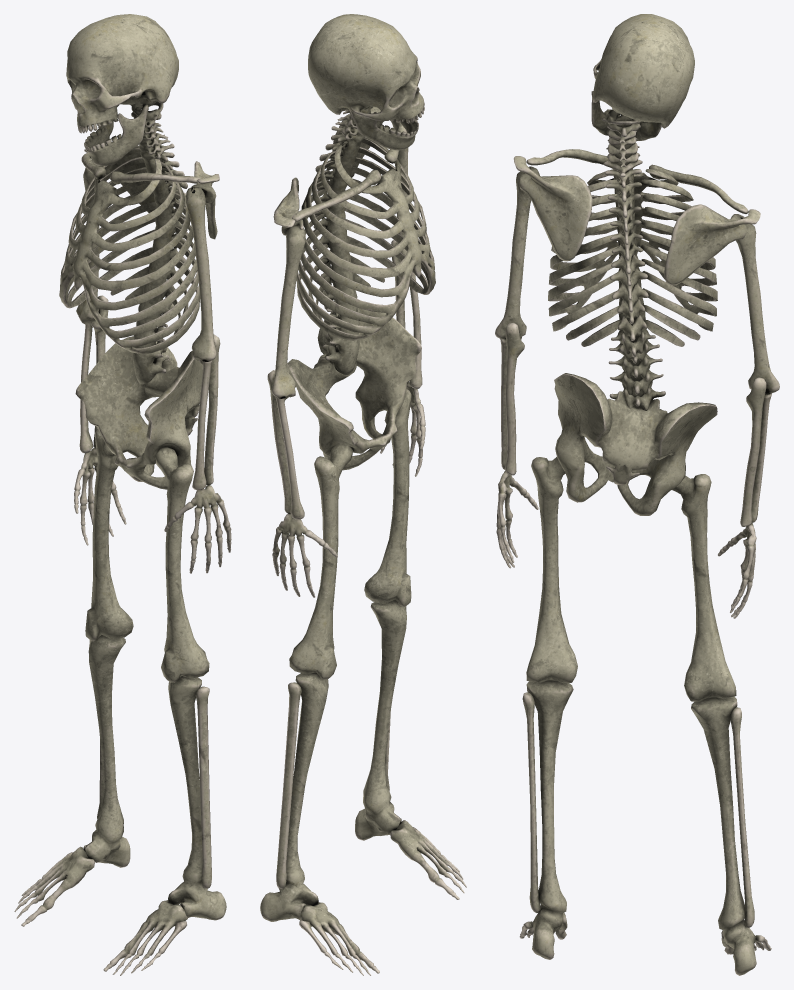
File: SM_HangingSkeleton.fbx
The picture shows the model from 3 angles, left to right: view 1: azimuth 30°, elevation 25°; view 2: azimuth 150°, elevation 25°; view 3: azimuth 270°, elevation 25°; orthographic projection. The views are drawn at different scales.
Visible parts, largest first — view 1: SM_HangingSkeleton_LOD0; view 2: SM_HangingSkeleton_LOD0; view 3: SM_HangingSkeleton_LOD0.
Part boxes in pixels (<box>): SM_HangingSkeleton_LOD0: <box>14,14,231,975</box>; SM_HangingSkeleton_LOD0: <box>260,14,466,975</box>; SM_HangingSkeleton_LOD0: <box>495,14,779,975</box>.
Size of the model in its own units: 26.46 by 50.46 by 188.
1 material, 1 textured.
